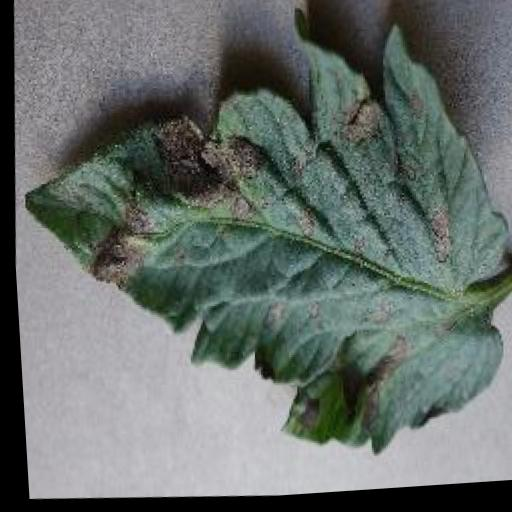Early Blight: (1, 2, 512, 483)
